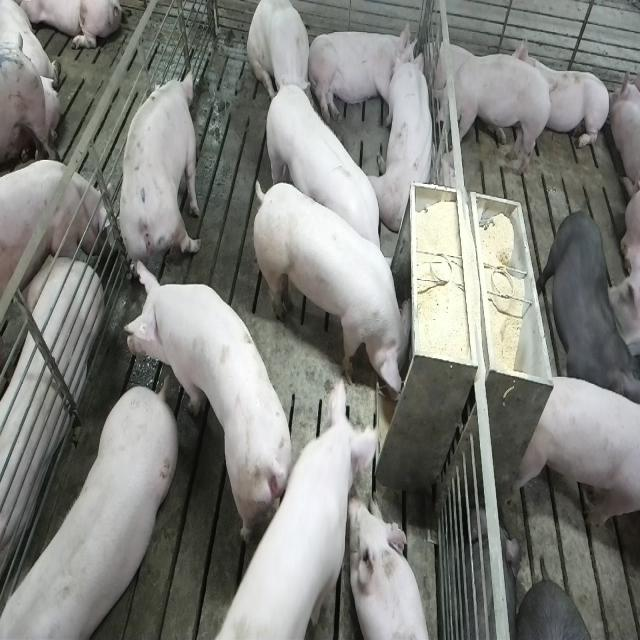Feeding: (190, 381, 383, 640), (255, 175, 419, 406)
Lateral_lying: (306, 20, 418, 127)
Sitting: (247, 1, 315, 117)
Standing: (127, 266, 297, 552), (0, 383, 175, 640), (261, 78, 389, 276), (511, 372, 639, 542), (115, 67, 204, 284), (429, 51, 554, 182), (0, 161, 106, 303)
Sternal_lying: (352, 494, 436, 638), (374, 44, 438, 233), (516, 32, 610, 153)
